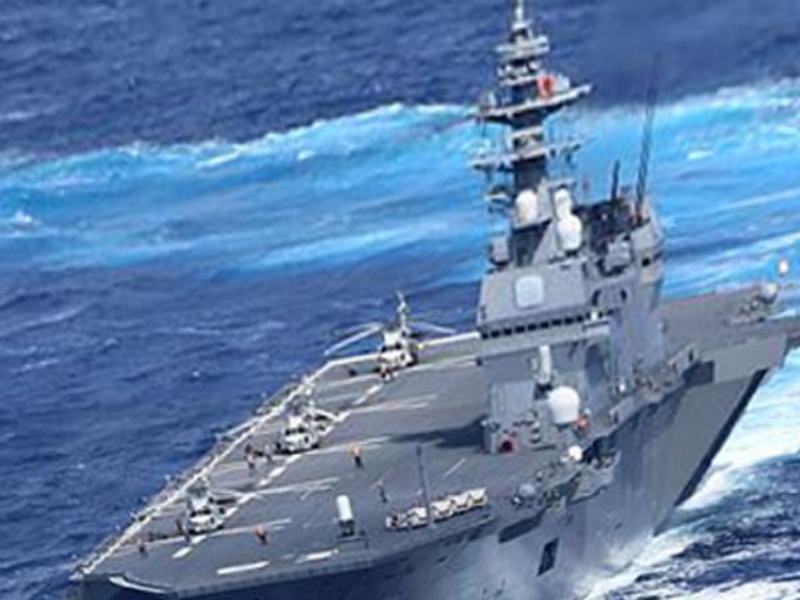carrier: (116, 92, 780, 599)
